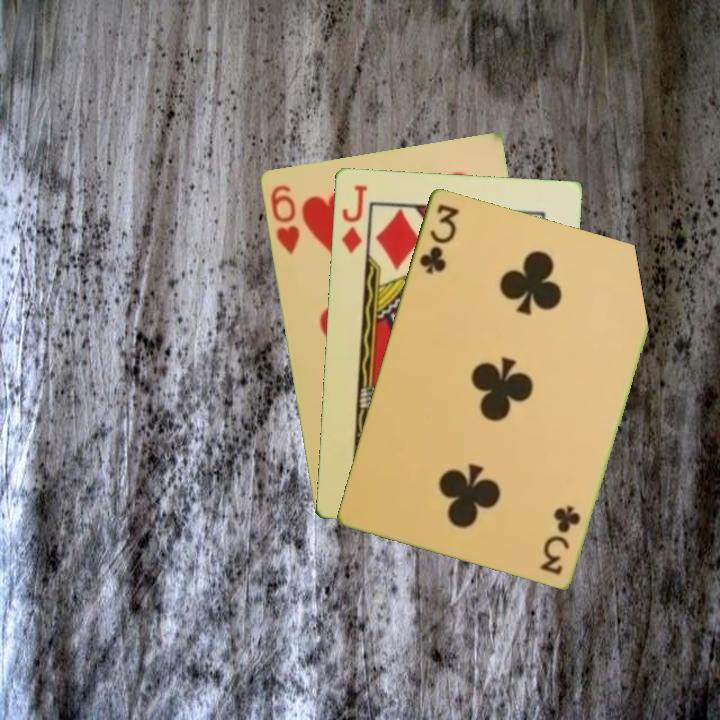3c: (415, 200, 462, 277), (539, 501, 583, 577)
6h: (266, 181, 302, 257)
Jd: (337, 181, 369, 256)
